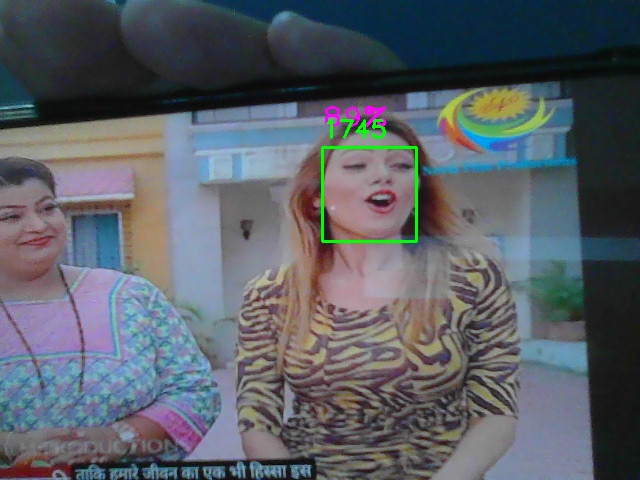fake: (322, 147, 417, 242)
